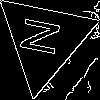N: (19, 15, 69, 60)
